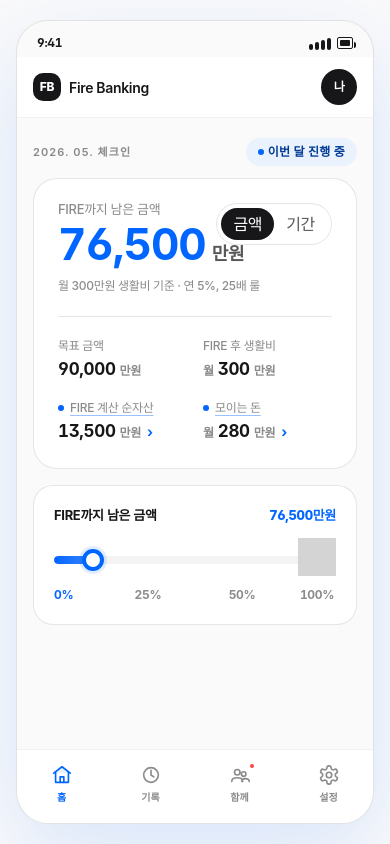
DashboardPage › keeps asset and liability management panels out of the home dashboard
The width and height of the screenshot is (390, 844).
Expected: the 1st text "FIRE까지 남은 금액" is shown, [58,201,160,217]
Click the button "기간": (301, 224) [274,208,327,240]
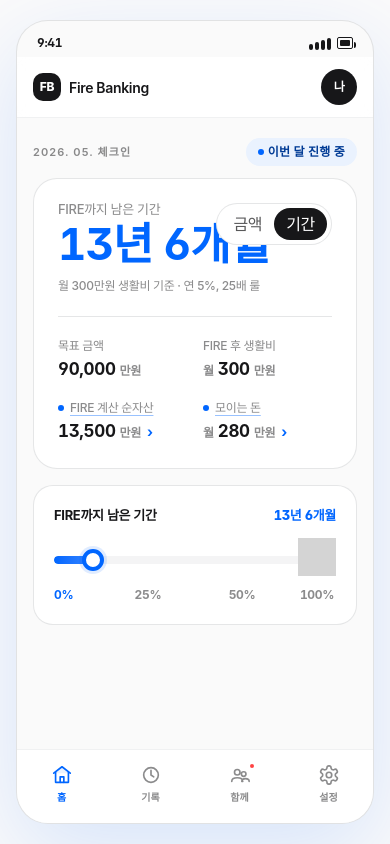
Expected: the text "FIRE 후 생활비" is shown, [203,338,276,353]
Result: the 1st text "FIRE까지 남은 기간" is shown at [58,201,160,217]
